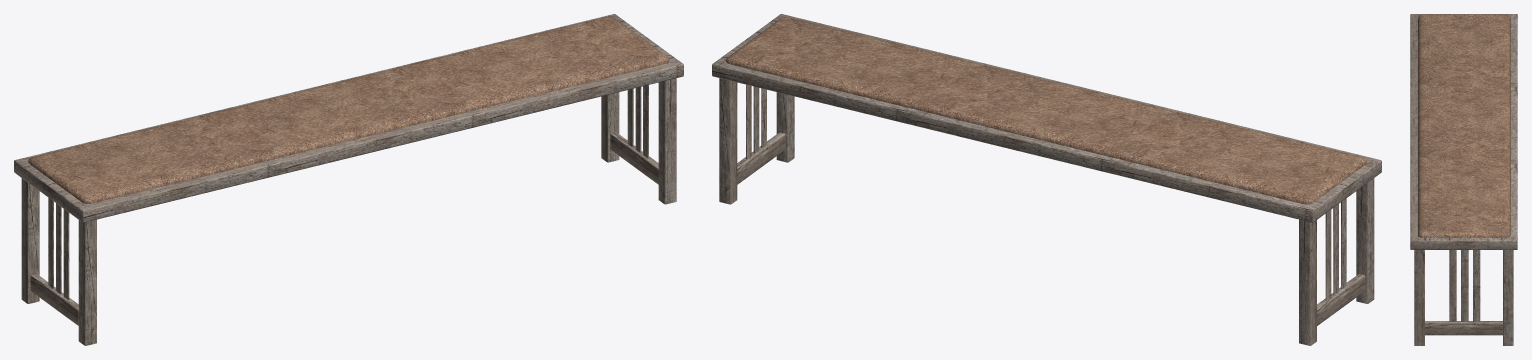
File: BenchWithoutBackrestAndPadded.FBX
The picture shows the model from 3 angles, left to right: view 1: azimuth 30°, elevation 25°; view 2: azimuth 150°, elevation 25°; view 3: azimuth 270°, elevation 25°; orthographic projection. The views are drawn at different scales.
Visible parts, largest first — view 1: BenchWithoutBackrestAndPadded; view 2: BenchWithoutBackrestAndPadded; view 3: BenchWithoutBackrestAndPadded.
Part boxes in pixels (<box>): BenchWithoutBackrestAndPadded: <box>14,14,683,345</box>; BenchWithoutBackrestAndPadded: <box>712,14,1381,345</box>; BenchWithoutBackrestAndPadded: <box>1410,14,1517,345</box>.
Size of the model in its own units: 984 by 225 by 197.
